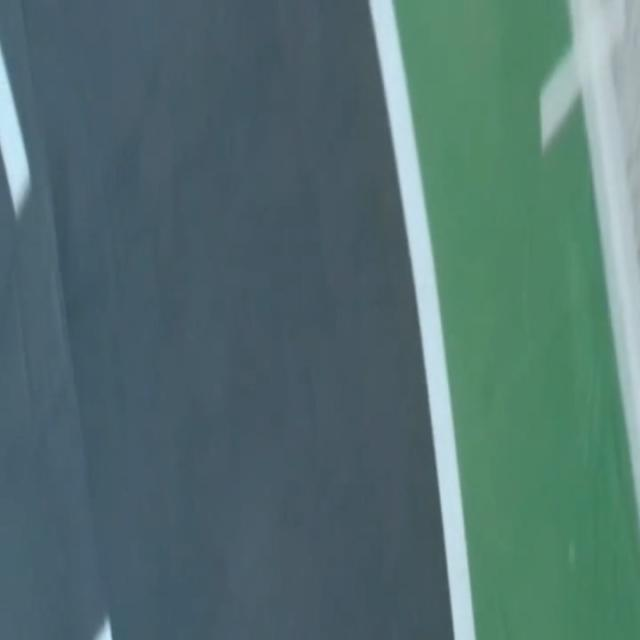center: (0, 44, 29, 214), (93, 620, 112, 639)
right: (369, 0, 475, 639)
